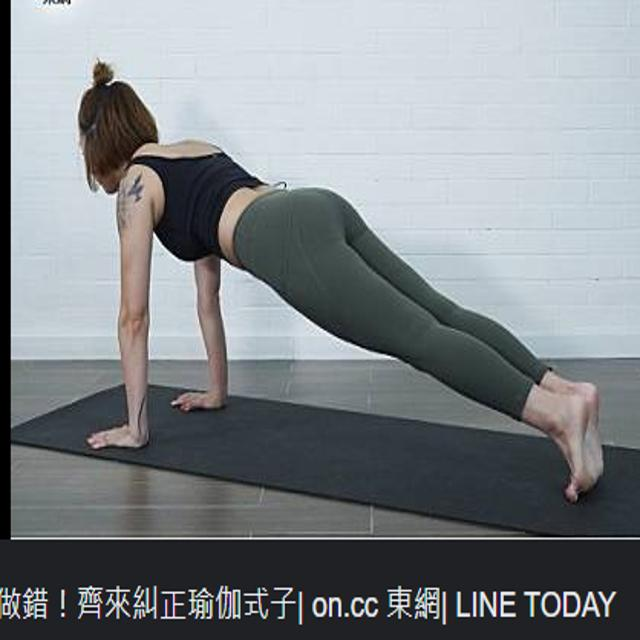Plank_Pose: (51, 49, 614, 506)
